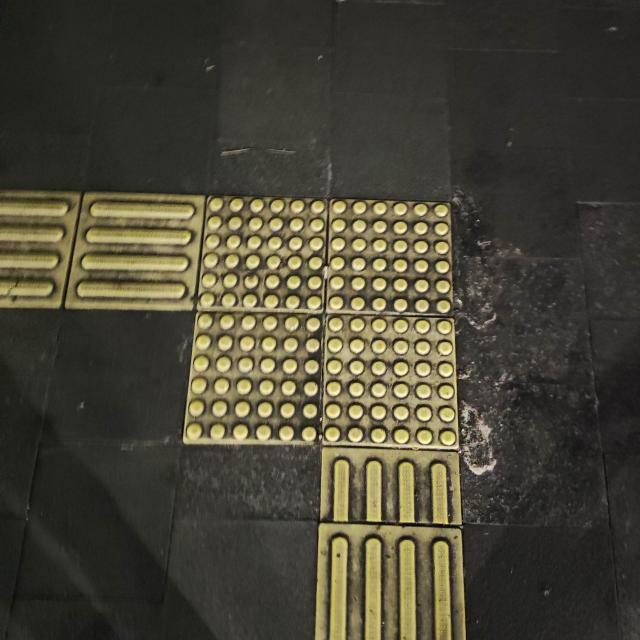kiri: (0, 140, 606, 619)
